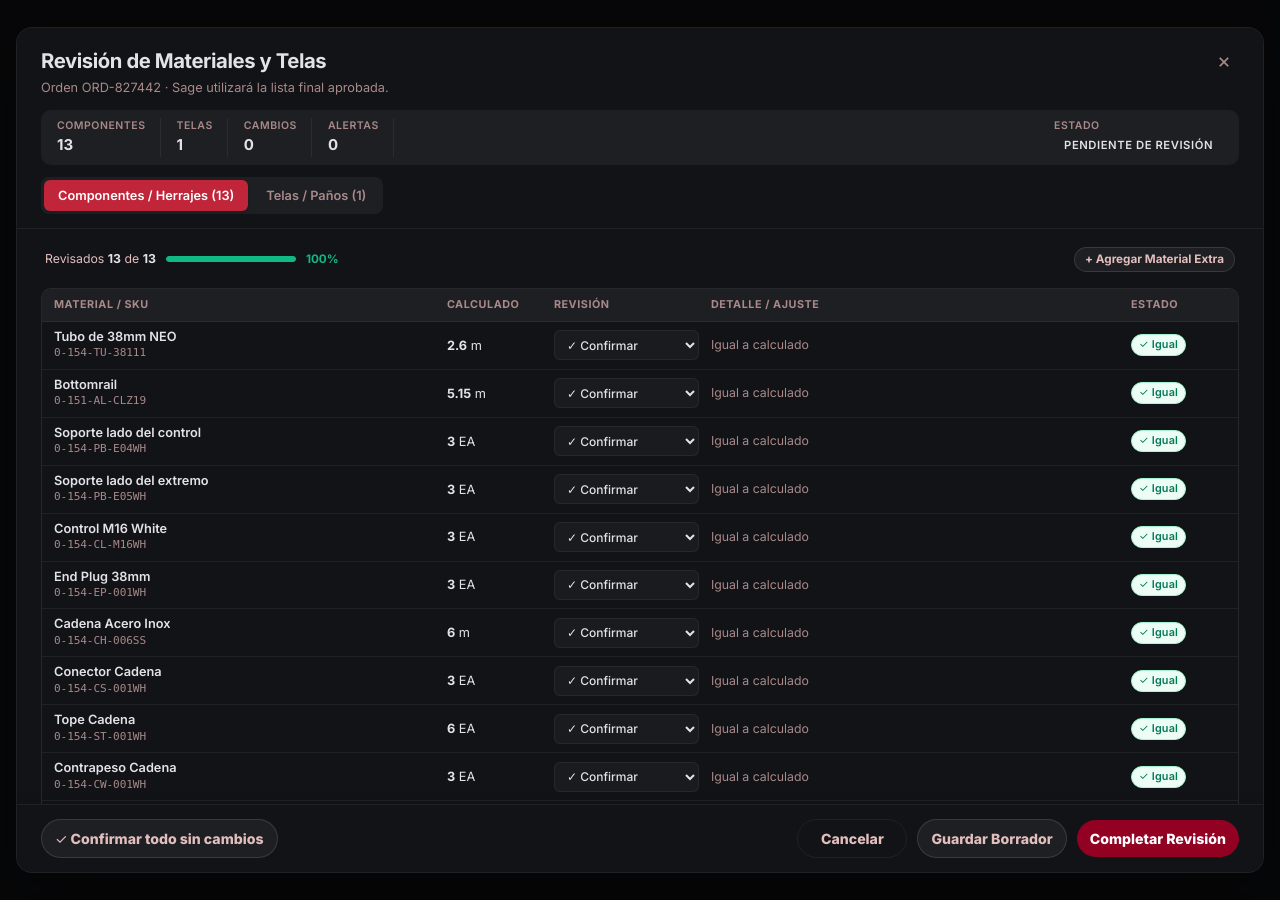
MaterialReviewModal — Compact Worklist UX & Review Progress › renders fabrics tab with compact worklist and progress indicator
Note: Switch to Fabrics tab
Click the button "Telas / Paños (1)" at (316, 196), box [252,180,380,211]
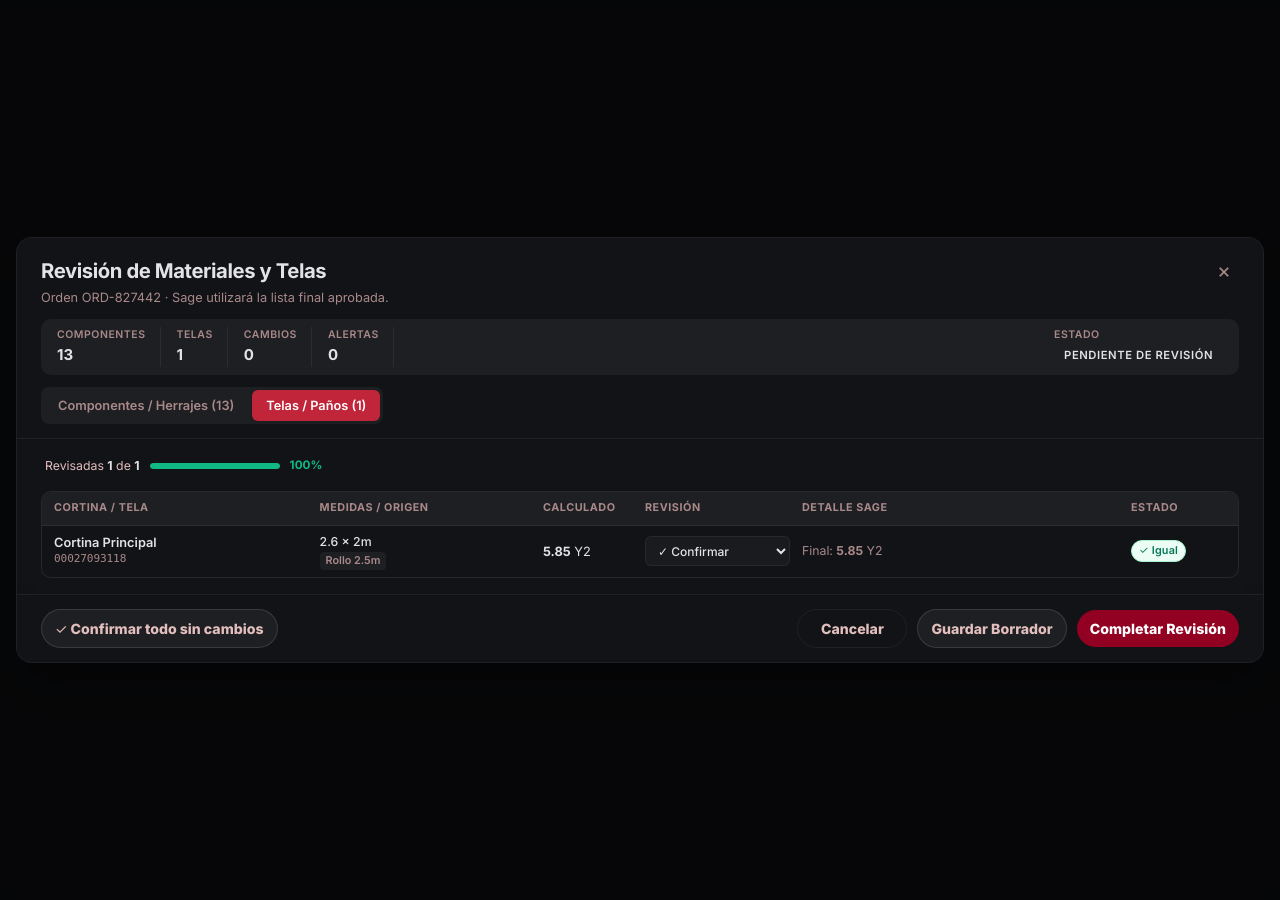
Expected: the text "CORTINA / TELA" is shown, [54,501,149,514]
Expected: the text "MEDIDAS / ORIGEN" is shown, [320,501,429,514]
Expected: the text "DETALLE SAGE" is shown, [802,501,888,514]
